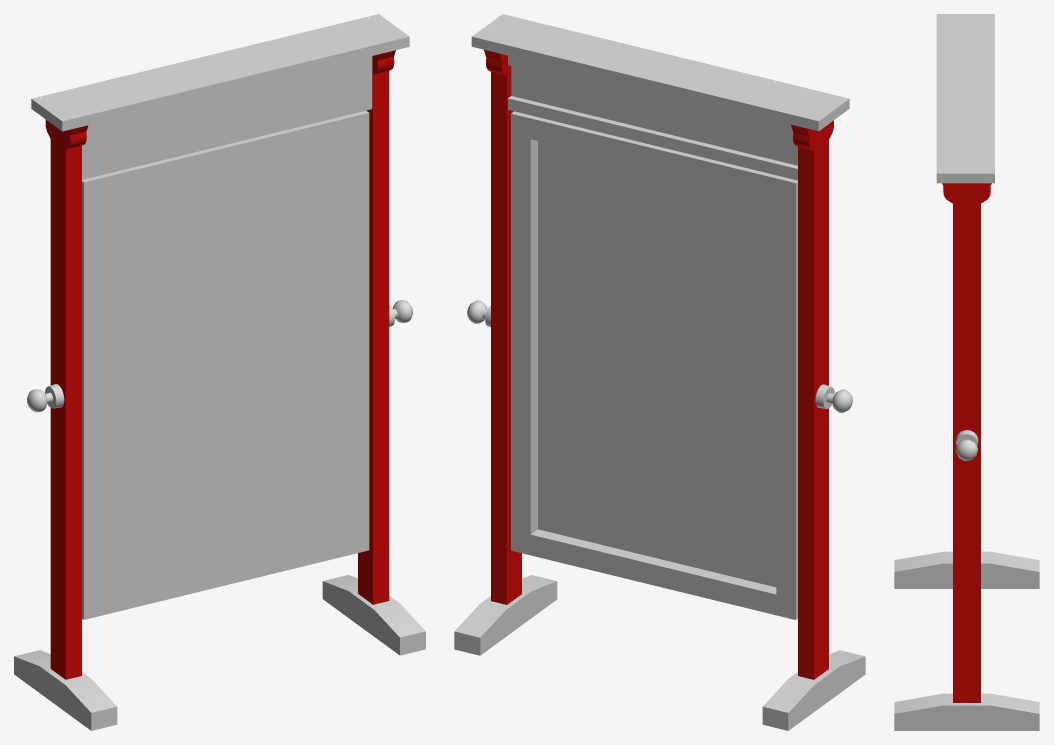
File: BlackBoardsmall_01_low.fbx
3 renders of one model, left to right at view 1: azimuth 30°, elevation 25°; view 2: azimuth 150°, elevation 25°; view 3: azimuth 270°, elevation 25°, orthographic. The views are drawn at different scales.
Visible parts, largest first — view 1: BlackBoardsmall_low.001, Woodsmall_06_low.001, Woodsmall_07_low.001, Woodsmall_08_low.001, Woodsmall_05_low.001, Woodsmall_04_low.001, Woodsmall_03_low.001; view 2: BlackBoardsmall_low.001, Woodsmall_06_low.001, Woodsmall_07_low.001, Woodsmall_08_low.001, Woodsmall_05_low.001, Woodsmall_04_low.001, Woodsmall_03_low.001; view 3: Woodsmall_05_low.001, Woodsmall_08_low.001, Woodsmall_03_low.001, Woodsmall_04_low.001.
Part boxes in pixels (box(x1,y1,x2,y2)): BlackBoardsmall_low.001: box(82, 110, 369, 619); Woodsmall_06_low.001: box(27, 119, 88, 679); Woodsmall_07_low.001: box(82, 56, 372, 179); Woodsmall_08_low.001: box(31, 14, 409, 131); Woodsmall_05_low.001: box(358, 50, 412, 604); Woodsmall_04_low.001: box(14, 650, 117, 730); Woodsmall_03_low.001: box(322, 575, 425, 655); BlackBoardsmall_low.001: box(511, 111, 797, 619); Woodsmall_06_low.001: box(791, 120, 852, 679); Woodsmall_07_low.001: box(508, 55, 797, 180); Woodsmall_08_low.001: box(471, 14, 849, 131); Woodsmall_05_low.001: box(467, 50, 521, 604); Woodsmall_04_low.001: box(762, 650, 865, 730); Woodsmall_03_low.001: box(454, 575, 557, 655); Woodsmall_05_low.001: box(942, 183, 991, 702); Woodsmall_08_low.001: box(936, 14, 994, 183); Woodsmall_03_low.001: box(894, 693, 1039, 730); Woodsmall_04_low.001: box(894, 551, 1039, 588).
Bounding box in the file's own units: 2.18 × 3.24 × 0.7628.
